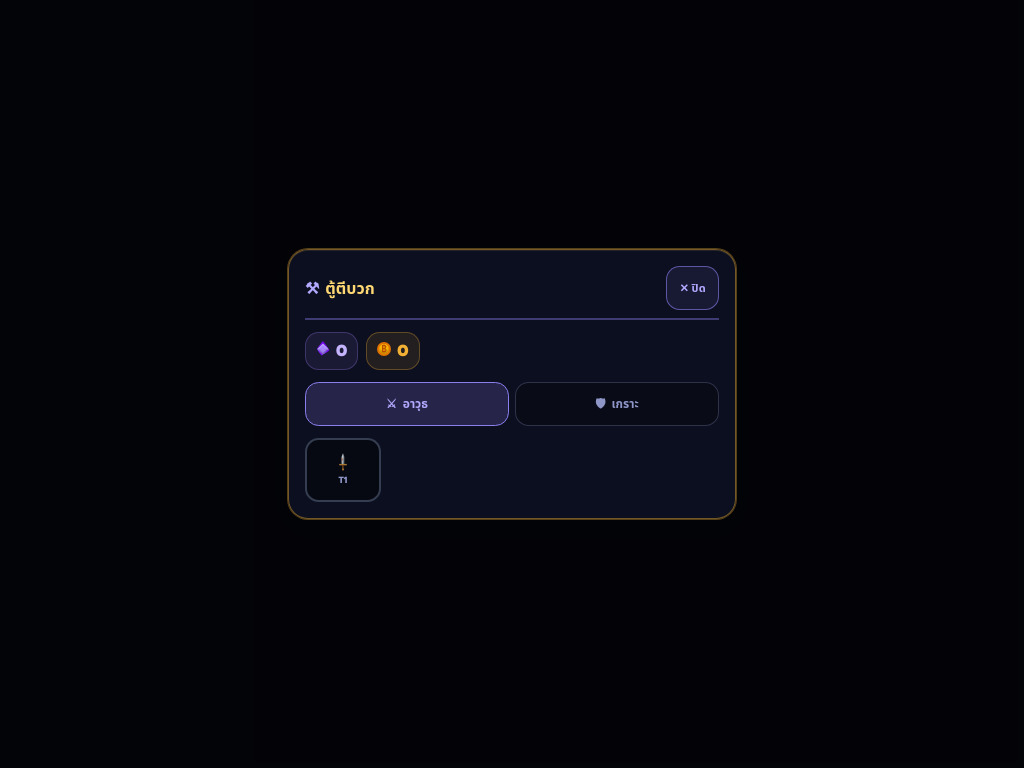
RefinePanel required-cost chips (issue #55 Wave A) › renders owned/required fraction text and a red tint when unaffordable
Click the button named "ดาบสนิม" at x=343, y=470, box left=305, top=438, right=381, bottom=502
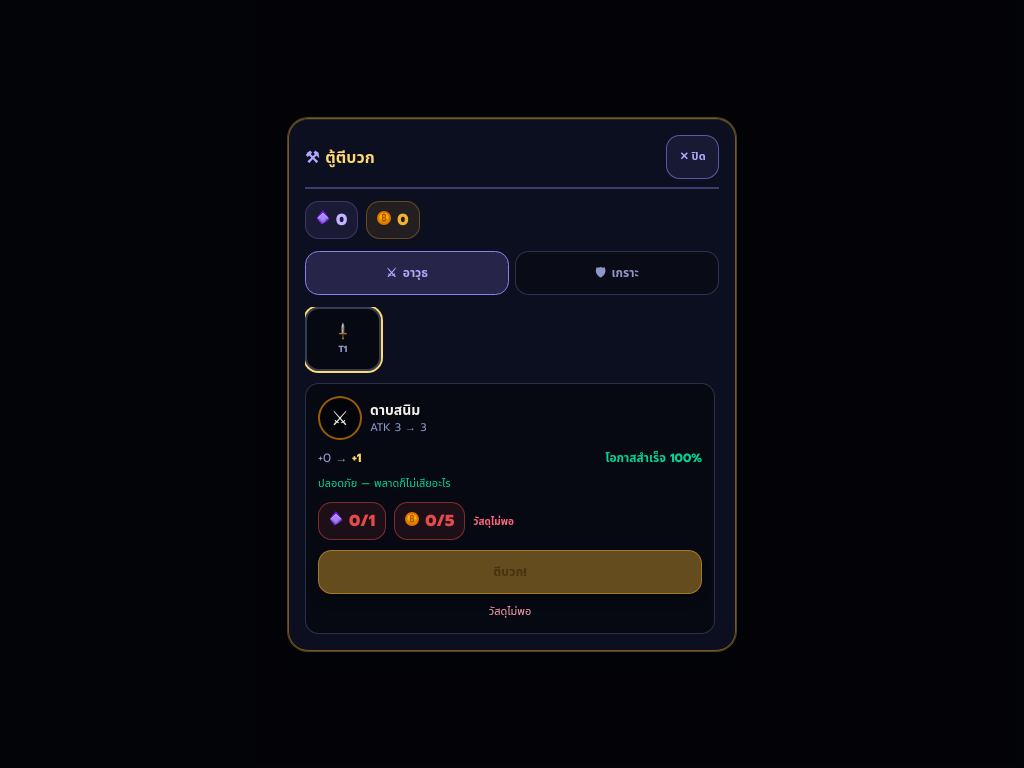
Now the text "0/1" is shown, box left=349, top=509, right=375, bottom=533
Now the text "0/5" is shown, box left=425, top=509, right=454, bottom=533
